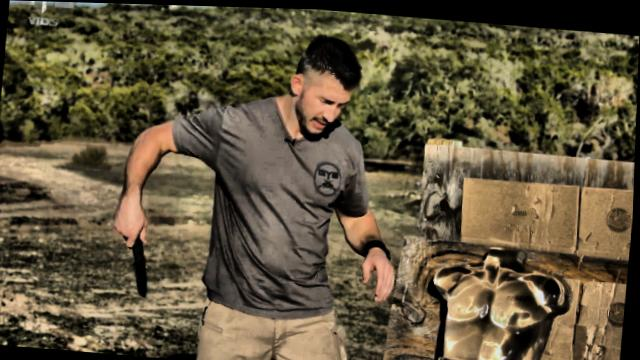knife: (104, 211, 161, 302)
